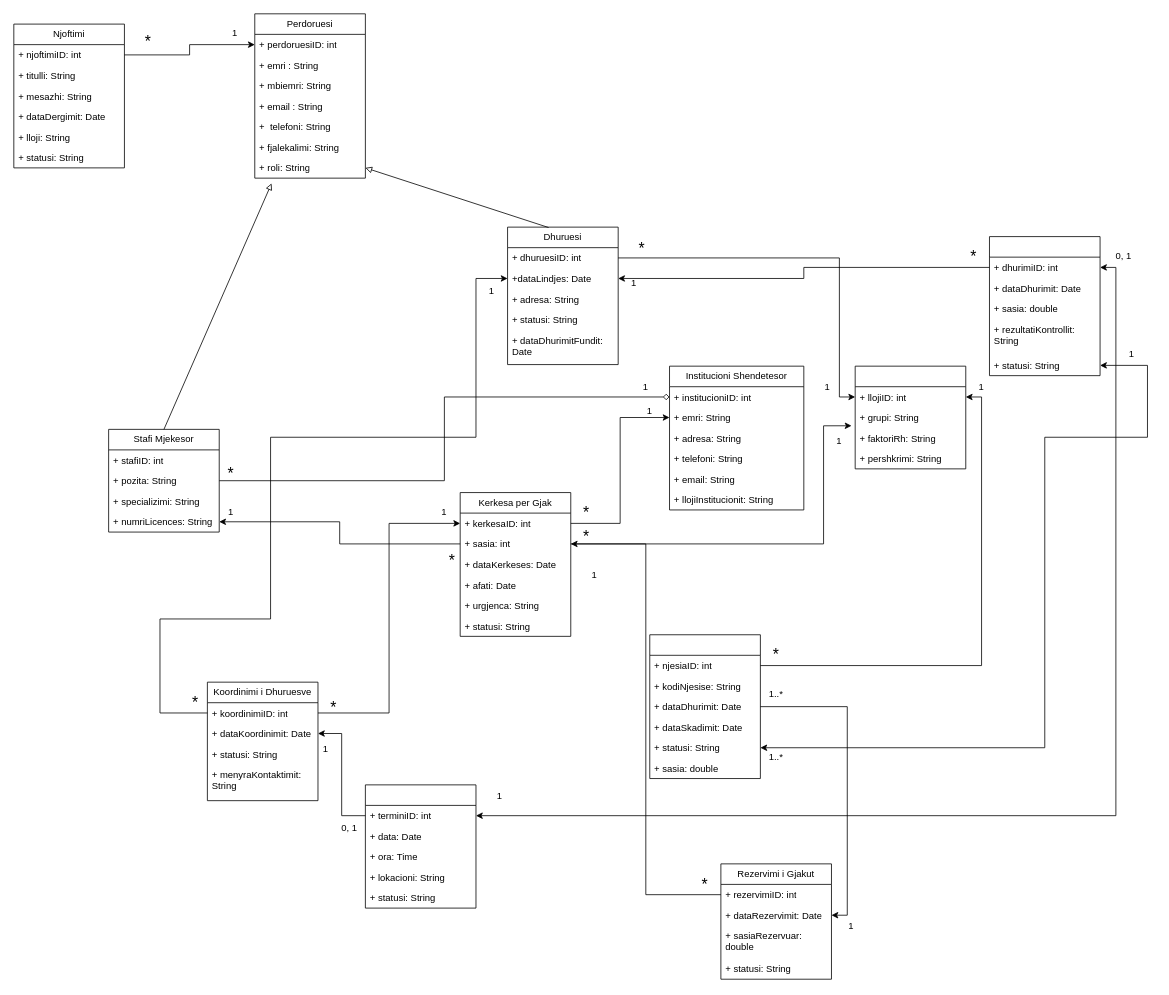
The diagram is 1169 pixels wide and 995 high, and some of its shapes have lost their labels. Here are the shapes that lost their labels. From the top down, the box of each, then its label:
(989, 236, 1100, 376): Dhurimi i Gjakut
(854, 365, 966, 469): Lloji i Gjakut
(649, 634, 760, 779): Njesia e Gjakut
(365, 784, 476, 908): Termini i Dhurimit
